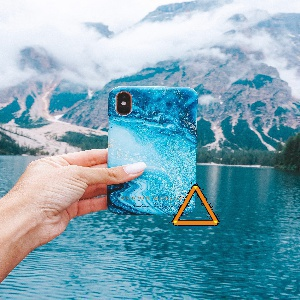triangle: (168, 181, 221, 229)
